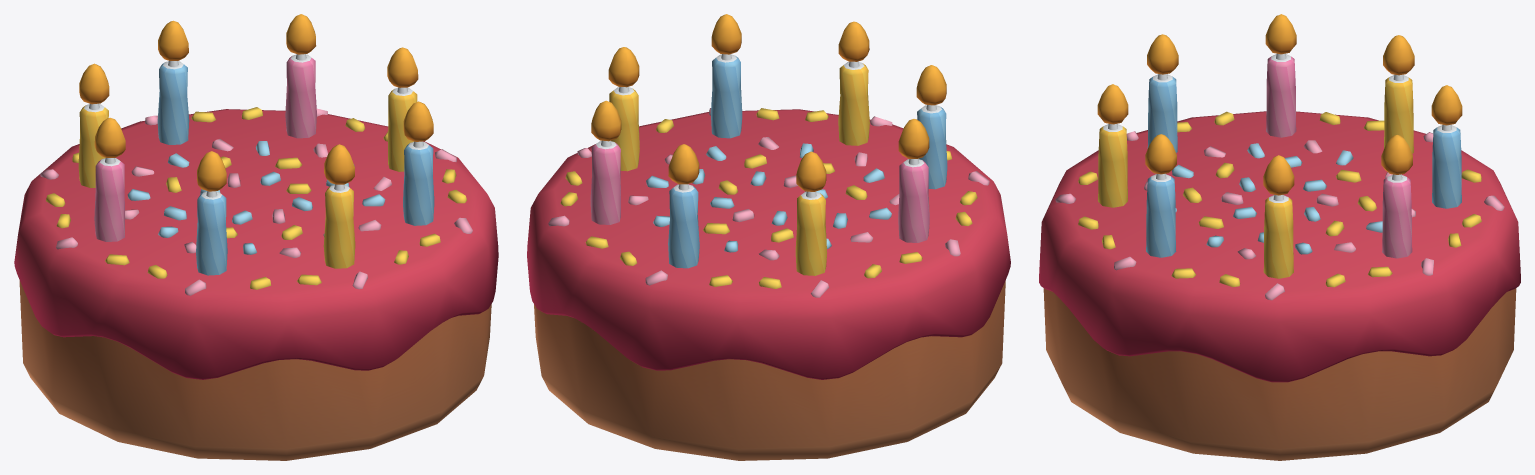
File: cake_birthday.gltf
The picture shows the model from 3 angles, left to right: view 1: azimuth 30°, elevation 25°; view 2: azimuth 150°, elevation 25°; view 3: azimuth 270°, elevation 25°; orthographic projection.
Visible parts, largest first — view 1: cake_birthday, cake_birthday_candle_fire; view 2: cake_birthday, cake_birthday_candle_fire; view 3: cake_birthday, cake_birthday_candle_fire.
Part boxes in pixels (<box>): cake_birthday: <box>14,54,498,460</box>; cake_birthday_candle_fire: <box>79,14,433,191</box>; cake_birthday: <box>527,54,1010,460</box>; cake_birthday_candle_fire: <box>591,14,946,191</box>; cake_birthday: <box>1039,53,1520,460</box>; cake_birthday_candle_fire: <box>1097,14,1462,195</box>.
Size of the model in its own units: 1.22 by 0.8021 by 1.22.
Materials: 1 (1 with a texture image).
